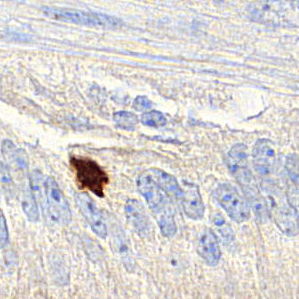Lymphocyte: (68, 153, 109, 199)
